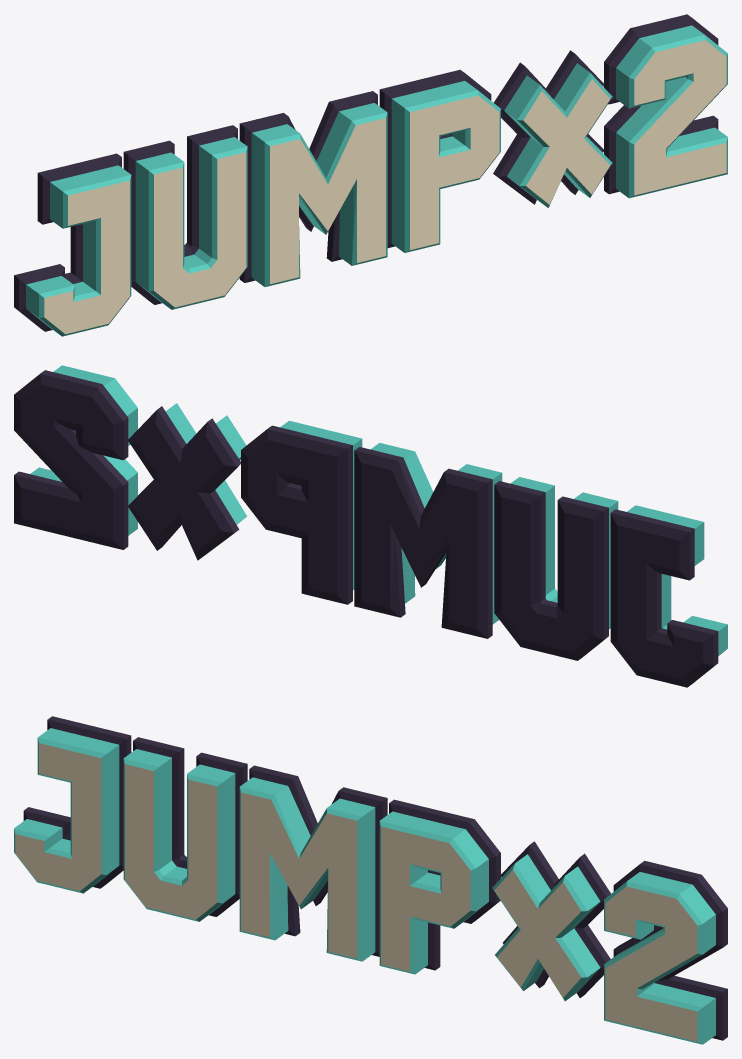
File: jump-times-two.glb
The picture shows the model from 3 angles, top to bottom: view 1: azimuth 30°, elevation 25°; view 2: azimuth 150°, elevation 25°; view 3: azimuth 330°, elevation 25°; orthographic projection.
Parts seen in each view (by area): view 1: letter-2-M, letter-5-2, letter-1-U, letter-3-P, letter-0-J, letter-4-×, outline-0, outline-1, outline-2, outline-5, outline-4, outline-3; view 2: outline-2, outline-1, outline-5, outline-3, outline-0, outline-4, letter-2-M, letter-5-2, letter-0-J, letter-1-U, letter-4-×, letter-3-P; view 3: letter-2-M, letter-1-U, letter-5-2, letter-3-P, letter-0-J, letter-4-×, outline-5, outline-1, outline-2, outline-3, outline-4, outline-0.
Boxes of the visible parts, x1,y1,x2,y2 form: letter-2-M: (251,103,387,286); letter-5-2: (616,25,727,198); letter-1-U: (135,137,247,309); letter-3-P: (391,81,500,252); letter-0-J: (26,165,131,336); letter-4-×: (504,63,612,207); outline-0: (14,153,121,331); outline-1: (123,125,237,304); outline-2: (239,91,377,282); outline-5: (604,14,718,194); outline-4: (493,50,604,204); outline-3: (379,69,491,247); outline-2: (354,447,492,638); outline-1: (494,481,608,660); outline-5: (14,370,128,549); outline-3: (241,425,352,604); outline-0: (610,509,718,687); outline-4: (128,406,240,560); letter-2-M: (370,442,502,624); letter-5-2: (30,365,137,535); letter-0-J: (627,505,727,655); letter-1-U: (510,477,618,628); letter-4-×: (165,403,247,524); letter-3-P: (280,420,362,589); letter-2-M: (239,777,375,961); letter-1-U: (123,749,235,921); letter-5-2: (604,872,715,1044); letter-3-P: (379,811,488,974); letter-0-J: (14,728,119,893); letter-4-×: (492,854,600,1001); outline-5: (613,860,727,1040); outline-1: (133,737,247,916); outline-2: (249,765,387,956); outline-3: (389,799,500,970); outline-4: (500,841,610,997); outline-0: (23,716,131,888).
Bounding box in the file's own units: 3.18 × 0.678 × 0.186.
